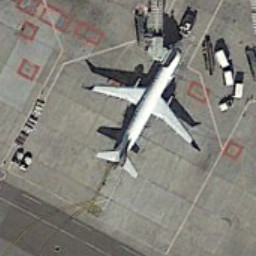Airplane: (86, 39, 208, 182)
